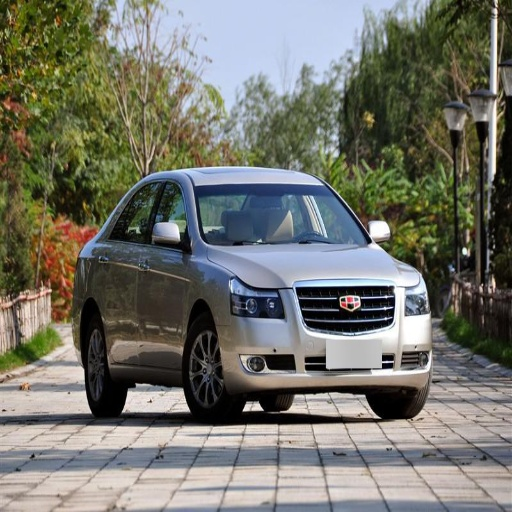front_bumper: (218, 287, 431, 390)
front_right_door: (140, 177, 190, 363)
front_right_light: (230, 279, 282, 317)
hood: (213, 243, 416, 286)
